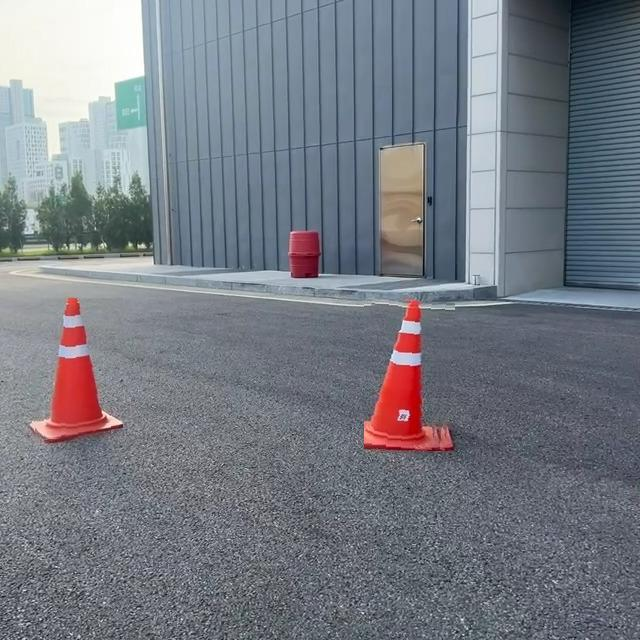fallen_object: (309, 277, 491, 482), (20, 293, 142, 450)
